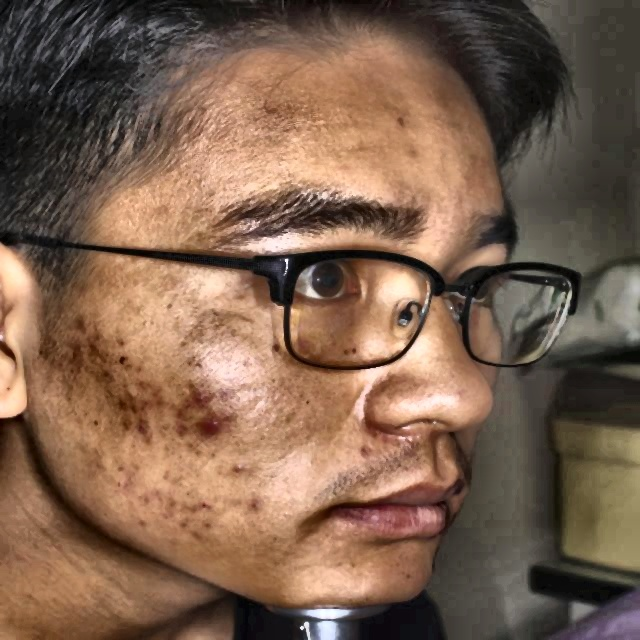pustule: (65, 306, 104, 350), (138, 486, 178, 520), (120, 412, 158, 447), (213, 406, 243, 446), (188, 493, 215, 529), (172, 404, 199, 435), (133, 373, 166, 397), (198, 414, 212, 435), (226, 468, 245, 478), (191, 384, 205, 397)
